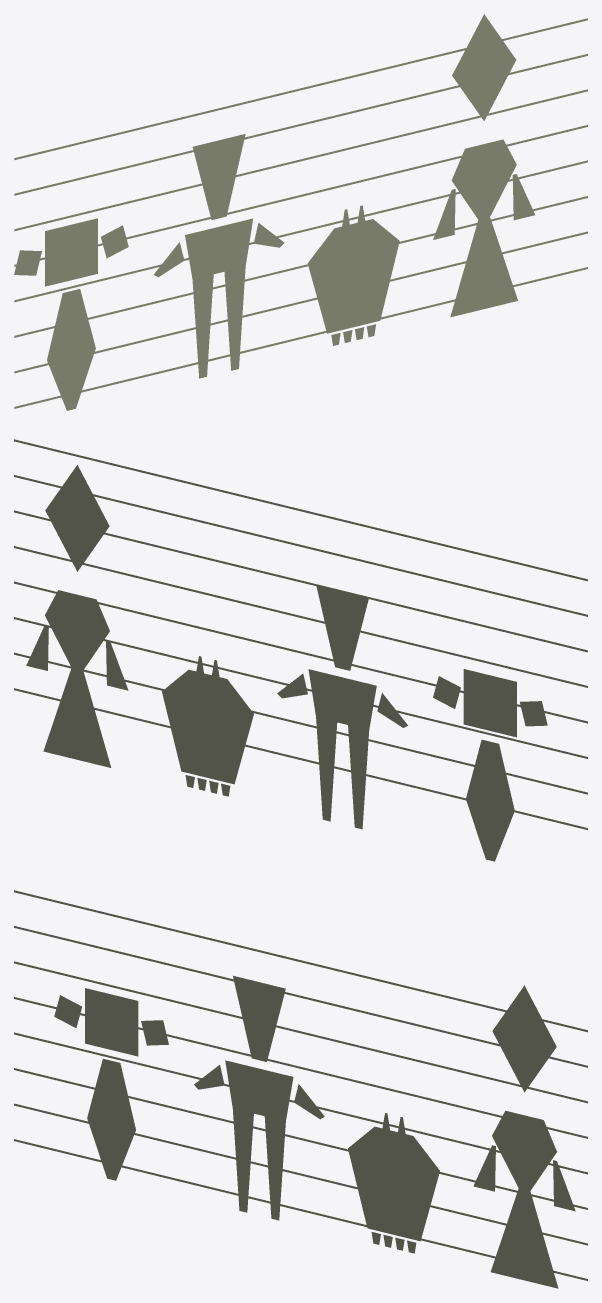
The model's file is lineup.obj.
The picture shows the model from 3 angles, top to bottom: view 1: azimuth 30°, elevation 25°; view 2: azimuth 150°, elevation 25°; view 3: azimuth 330°, elevation 25°; orthographic projection.
Visible parts, largest first — view 1: Cube14; view 2: Cube14; view 3: Cube14.
Part boxes in pixels (x1,y1,x2,y2): Cube14: (14,14,587,410); Cube14: (14,439,587,861); Cube14: (14,890,587,1288).
Bounding box in the file's own units: 21.59 × 10.61 × 1.32.
